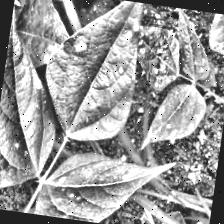Bean Rust: (32, 0, 150, 149), (0, 2, 69, 196), (32, 143, 174, 224), (3, 0, 79, 89), (138, 80, 206, 157), (127, 21, 187, 96), (172, 8, 219, 82)
